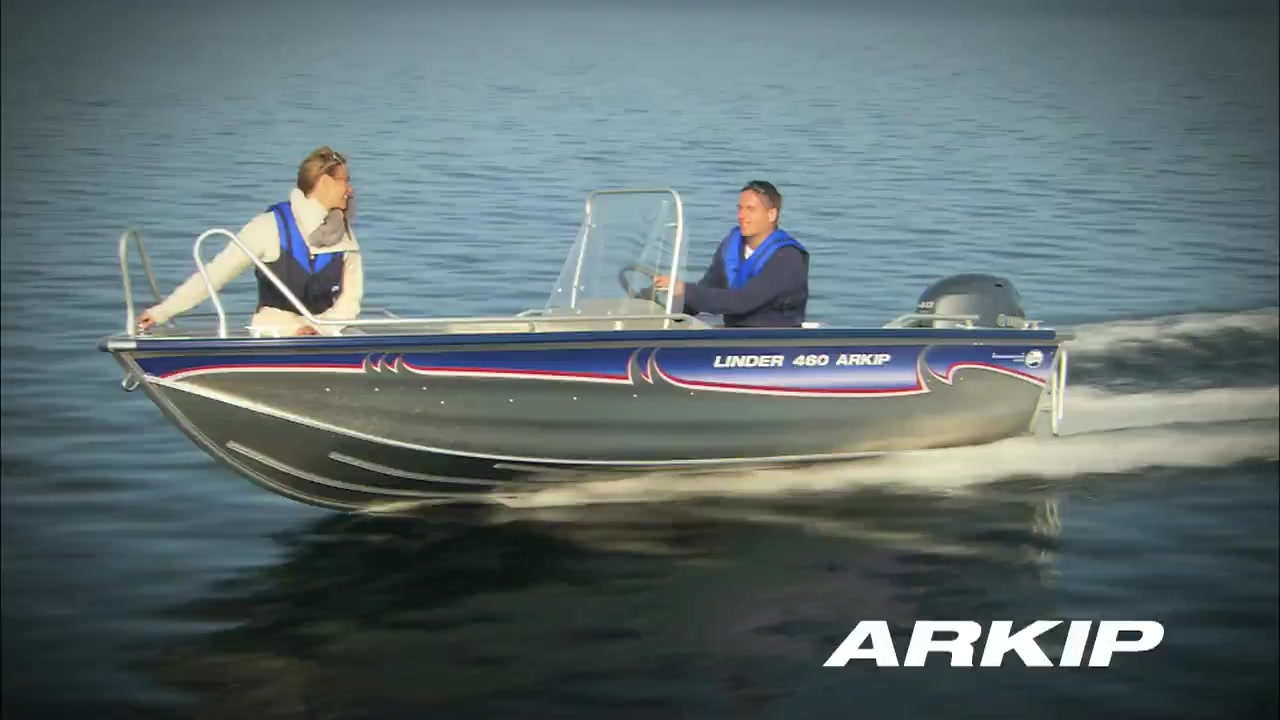boat: (97, 186, 1077, 518)
